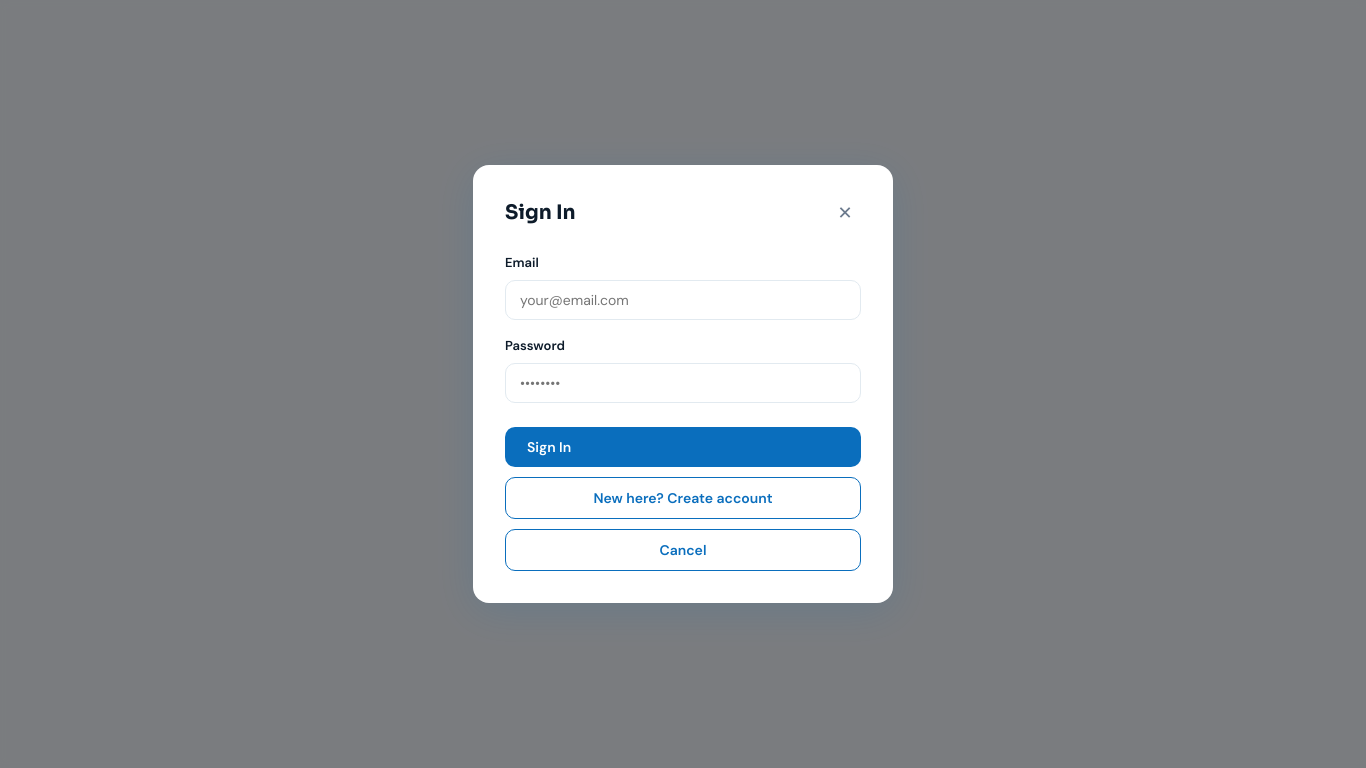
Test: AuthModal › switches to register mode when toggle button clicked
The image size is (1366, 768).
Click the button "New here? Create account" at [683, 498], box left=505, top=477, right=861, bottom=519
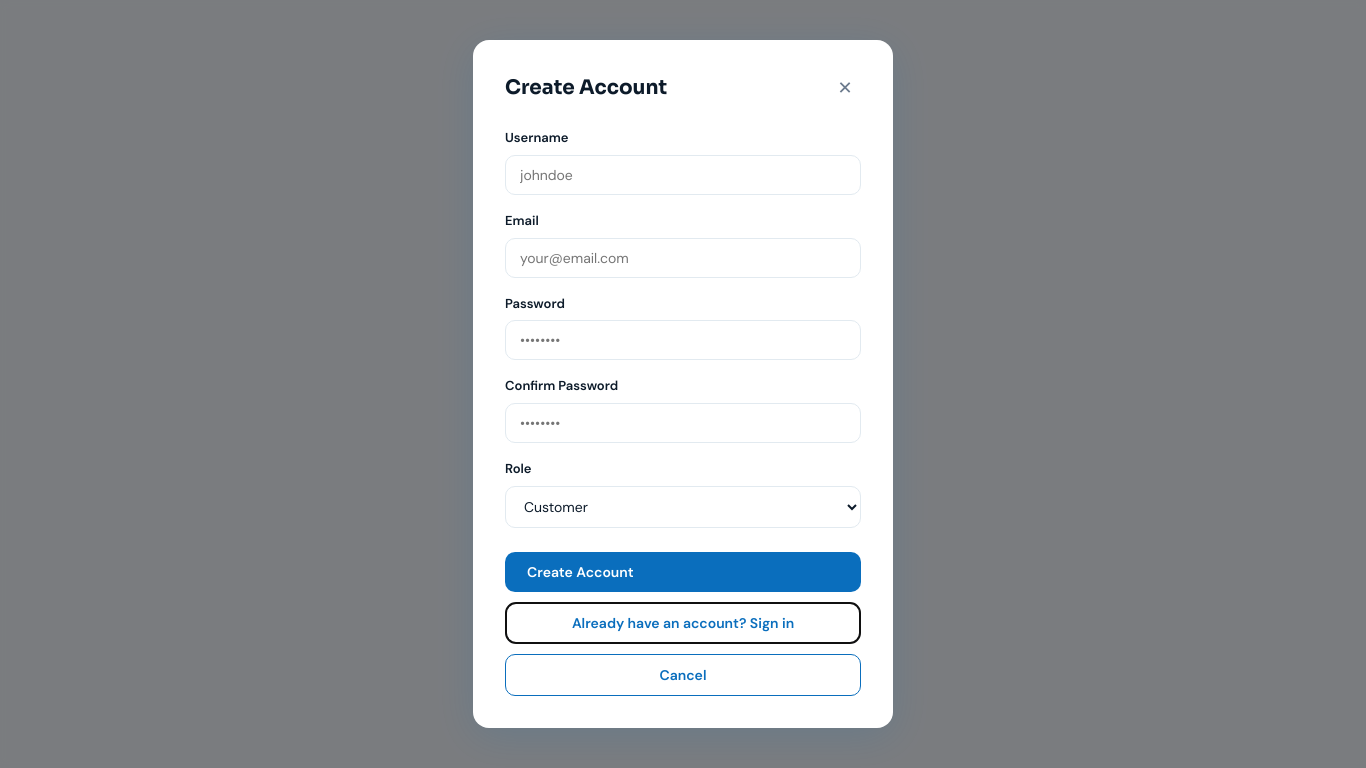
Now the heading "Create Account" is shown, box left=505, top=72, right=667, bottom=104
